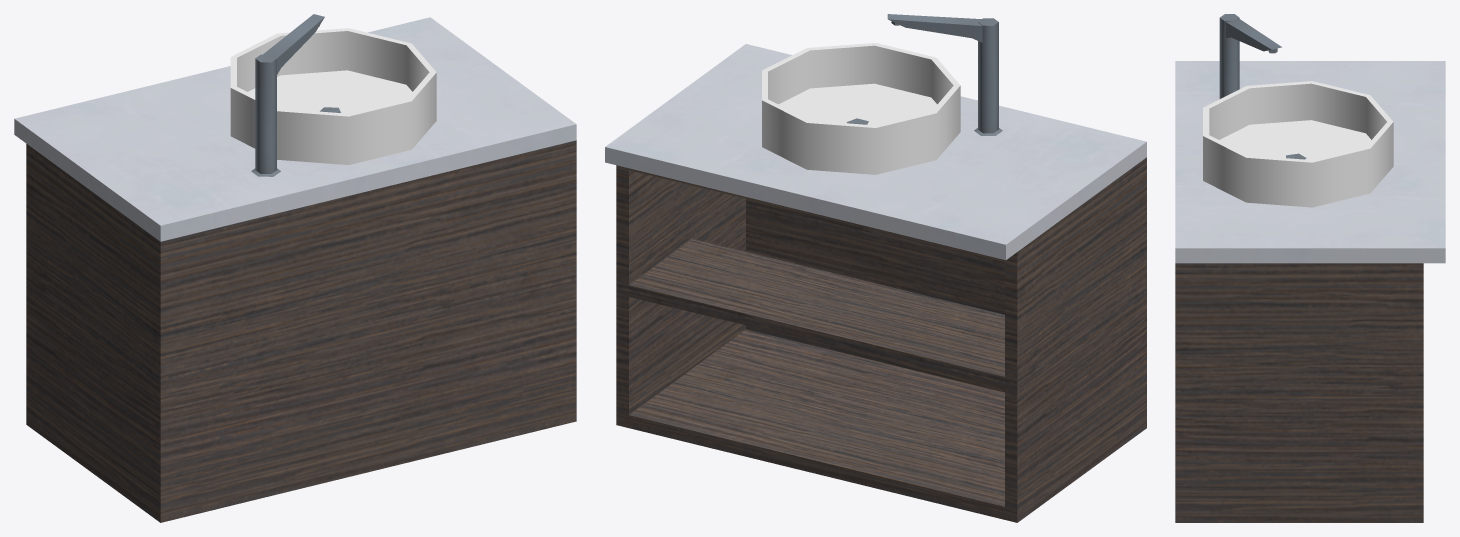
Rendered from Washbasin.glb.
The picture shows the model from 3 angles, left to right: view 1: azimuth 30°, elevation 25°; view 2: azimuth 150°, elevation 25°; view 3: azimuth 270°, elevation 25°; orthographic projection. The views are drawn at different scales.
Parts seen in each view (by area): view 1: Washbasin; view 2: Washbasin; view 3: Washbasin.
Boxes of the visible parts, x1,y1,x2,y2 form: Washbasin: [14, 14, 576, 522]; Washbasin: [605, 14, 1146, 522]; Washbasin: [1175, 14, 1445, 522].
Bounding box in the file's own units: 1.17 × 1.12 × 0.7153.
4 materials, 3 textured.
